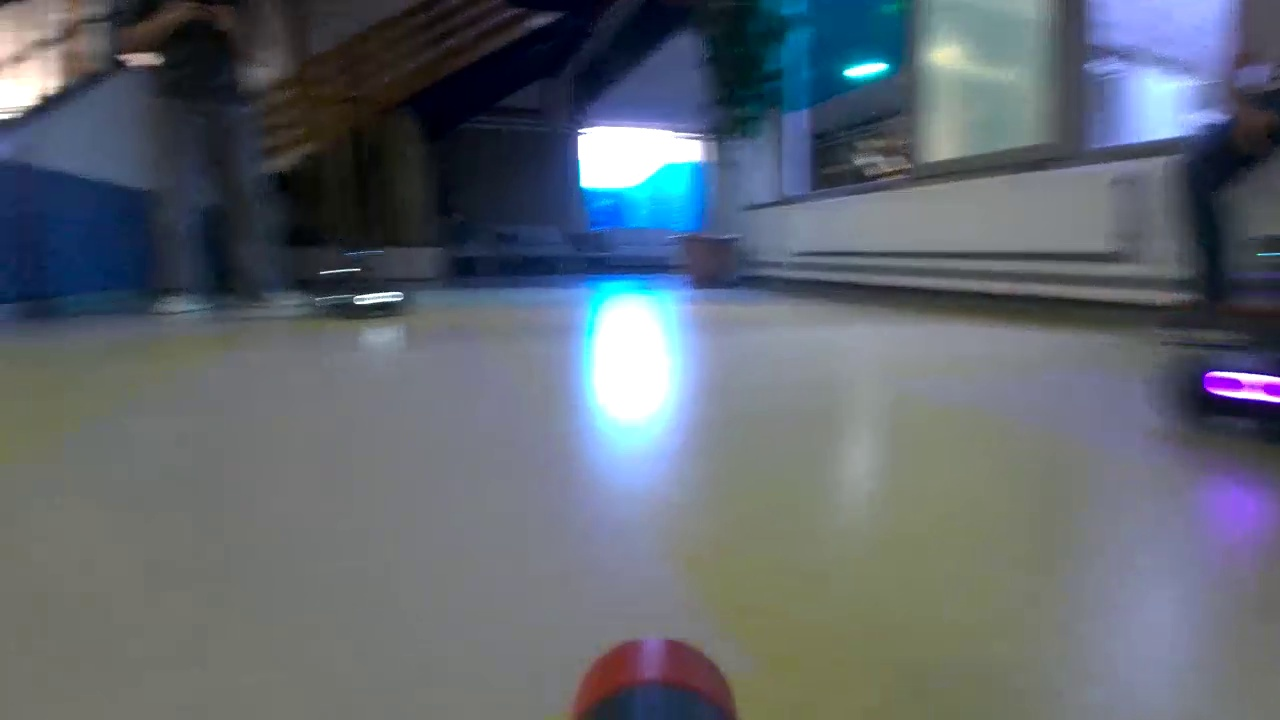robot: (1150, 232, 1280, 452), (316, 248, 404, 312)
